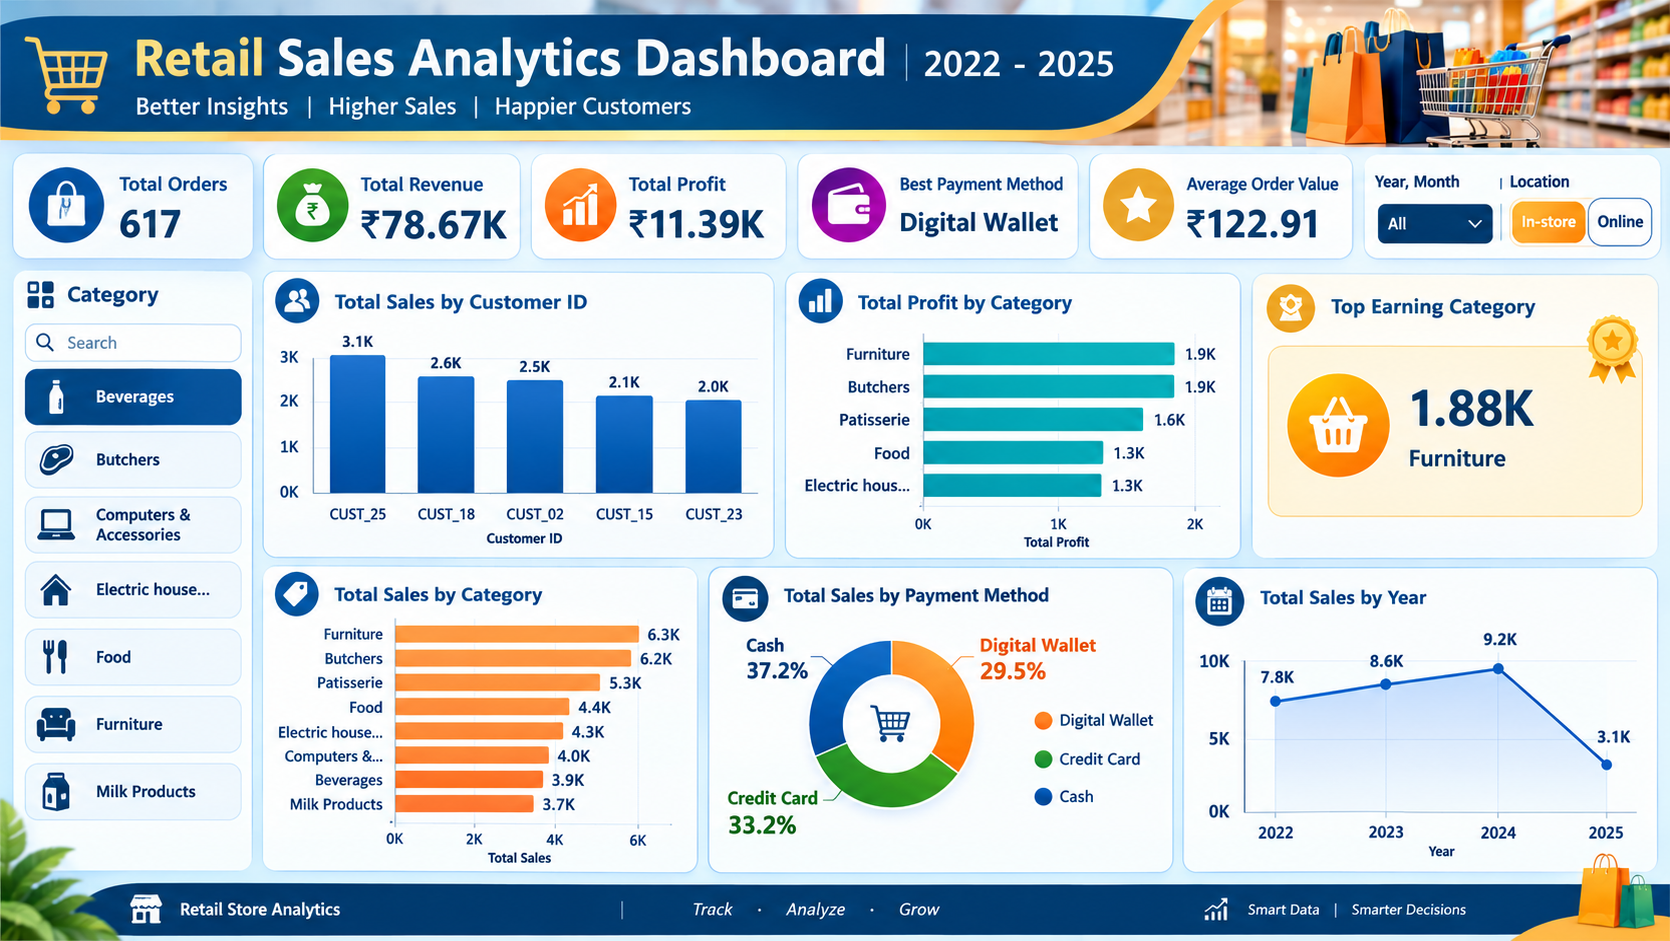

The page's visual inventory and layout, read from the dashboard file:
{"tool":"powerbi","page":{"name":"Page 2","canvas":[1280,720],"ordinal":0},"visuals":[{"type":"clusteredBarChart","fields":{"Category":["Table1.Category"],"Y":["Table1.Total Sales"]},"box":[0,415,652.8,305.7],"z":0},{"type":"donutChart","fields":{"Category":["Table1.Payment Method"],"Y":["Table1.Total Sales"]},"box":[652.8,190.5,627.7,224.5],"z":1000},{"type":"lineChart","fields":{"Category":["Table1.Transaction Date.Variation.Date Hierarchy.Year","Table1.Transaction Date.Variation.Date Hierarchy.Month"],"Y":["Table1.Total Sales"]},"box":[0,204,653.1,224.6],"z":2000},{"type":"tableEx","fields":{"Values":["Table1.Transaction ID","Table1.Item","Sum(Table1.Price Per Unit)","Sum(Table1.Quantity)","Sum(Table1.Total Spent)"]},"box":[665.1,414.9,615.4,305.1],"z":3000},{"type":"textbox","box":[386.3,386.3,13.2,13.2],"z":4000},{"type":"textbox","box":[0,0,1280.5,70.2],"z":5000},{"type":"textbox","box":[0,99.5,399.5,14.6],"z":6000},{"type":"textbox","box":[99.5,99.5,300,14.6],"z":7000},{"type":"textbox","box":[0,70.2,1280.5,43.9],"z":8000},{"type":"cardVisual","fields":{"Data":["Table1.Total Sales"]},"box":[218.6,99,296.9,104.9],"z":9000},{"type":"cardVisual","fields":{"Data":["Table1.Total Orders"]},"box":[0,97.5,234.8,106.3],"z":10000},{"type":"cardVisual","fields":{"Data":["Table1.Average Order Value"]},"box":[491.8,91.6,259.9,96],"z":11000},{"type":"slicer","fields":{"Values":["Table1.Location"]},"box":[992.5,103.4,276.2,84.2],"z":12000},{"type":"slicer","fields":{"Values":["Table1.Category"]},"box":[686.8,106.3,305.7,70.9],"z":13000},{"type":"shape","box":[0,3,1280.5,103.4],"z":14000},{"type":"actionButton","box":[0,0,100,40],"z":15000},{"type":"actionButton","box":[0,0,100,40],"z":16000},{"type":"actionButton","box":[0,0,100,40],"z":17000},{"type":"actionButton","box":[0,0,100,40],"z":18000},{"type":"actionButton","box":[0,0,100,40],"z":19000},{"type":"actionButton","box":[0,0,100,40],"z":20000},{"type":"actionButton","box":[0,0,100,40],"z":21000},{"type":"actionButton","box":[0,0,100,40],"z":22000},{"type":"actionButton","box":[0,0,100,40],"z":23000},{"type":"actionButton","box":[0,0,100,40],"z":24000},{"type":"actionButton","box":[0,0,100,40],"z":25000}]}

Visuals, with their boxes in screenshot pixels (x1, y1, x2, y2), scaled from the page's 1280x720 canvas onto the 1670x941 screenshot:
clusteredBarChart - Table1.Category x Table1.Total Sales: left=0, top=542, right=852, bottom=940
donutChart - Table1.Payment Method x Table1.Total Sales: left=852, top=249, right=1669, bottom=542
lineChart - Table1.Transaction Date.Variation.Date Hierarchy.Year x Table1.Transaction Date.Variation.Date Hierarchy.Month: left=0, top=267, right=852, bottom=560
tableEx - Table1.Transaction ID x Table1.Item: left=868, top=542, right=1669, bottom=940
textbox: left=504, top=505, right=521, bottom=522
textbox: left=0, top=0, right=1669, bottom=92
textbox: left=0, top=130, right=521, bottom=149
textbox: left=130, top=130, right=521, bottom=149
textbox: left=0, top=92, right=1669, bottom=149
cardVisual - Table1.Total Sales: left=285, top=129, right=673, bottom=266
cardVisual - Table1.Total Orders: left=0, top=127, right=306, bottom=266
cardVisual - Table1.Average Order Value: left=642, top=120, right=981, bottom=245
slicer - Table1.Location: left=1295, top=135, right=1655, bottom=245
slicer - Table1.Category: left=896, top=139, right=1295, bottom=232
shape: left=0, top=4, right=1669, bottom=139
actionButton: left=0, top=0, right=130, bottom=52
actionButton: left=0, top=0, right=130, bottom=52
actionButton: left=0, top=0, right=130, bottom=52
actionButton: left=0, top=0, right=130, bottom=52
actionButton: left=0, top=0, right=130, bottom=52
actionButton: left=0, top=0, right=130, bottom=52
actionButton: left=0, top=0, right=130, bottom=52
actionButton: left=0, top=0, right=130, bottom=52
actionButton: left=0, top=0, right=130, bottom=52
actionButton: left=0, top=0, right=130, bottom=52
actionButton: left=0, top=0, right=130, bottom=52
